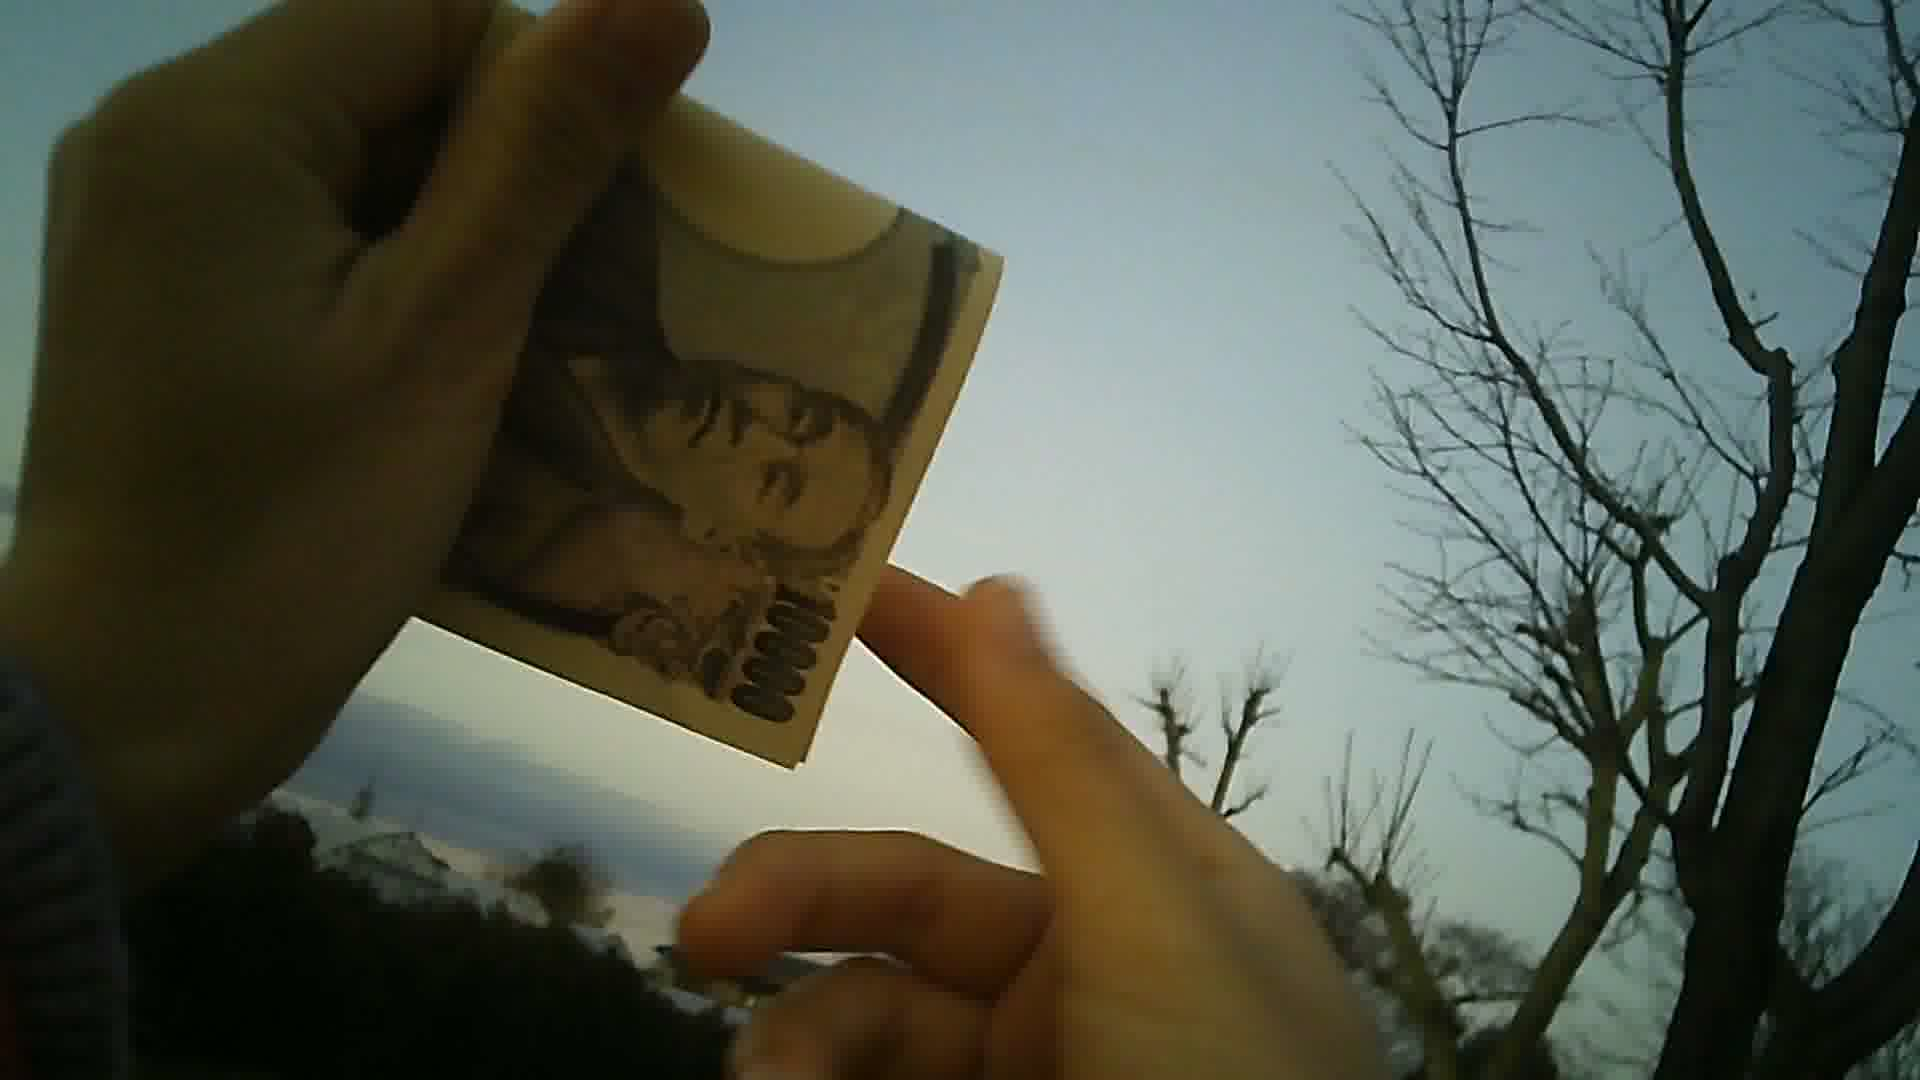10,000 Yen: (368, 61, 1002, 811)
